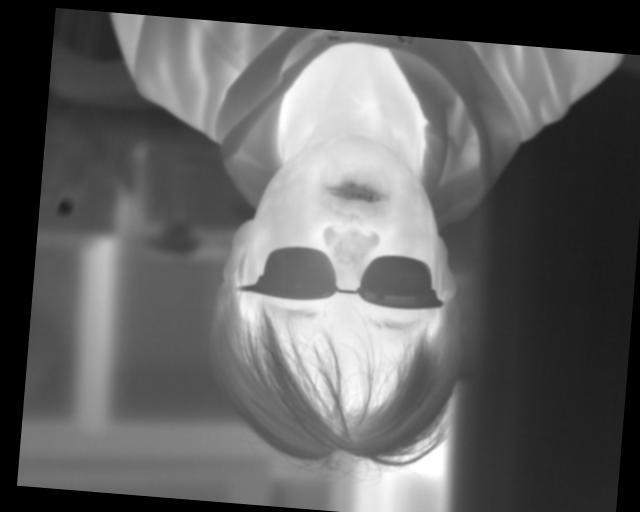face: (328, 321, 398, 412), (180, 289, 239, 375)
